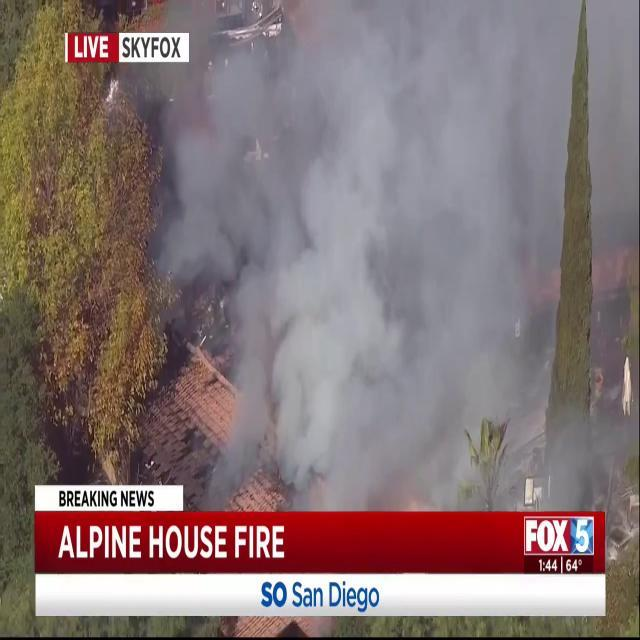Smoke: (139, 1, 613, 512)
